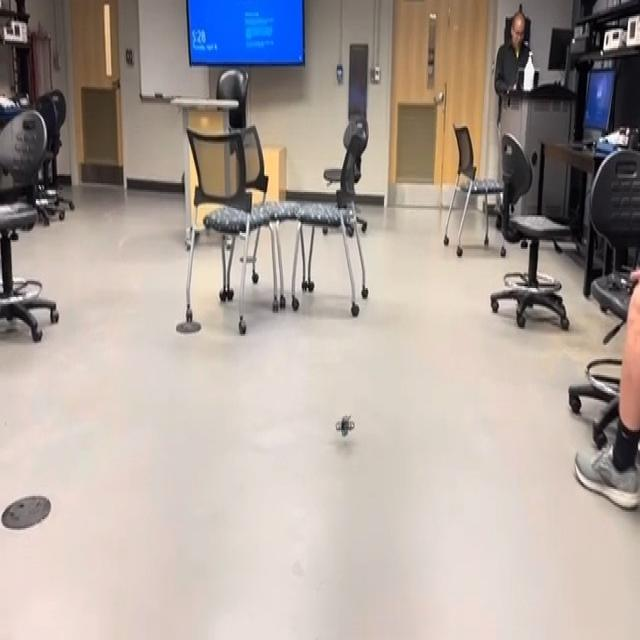drone: (326, 402, 364, 452)
